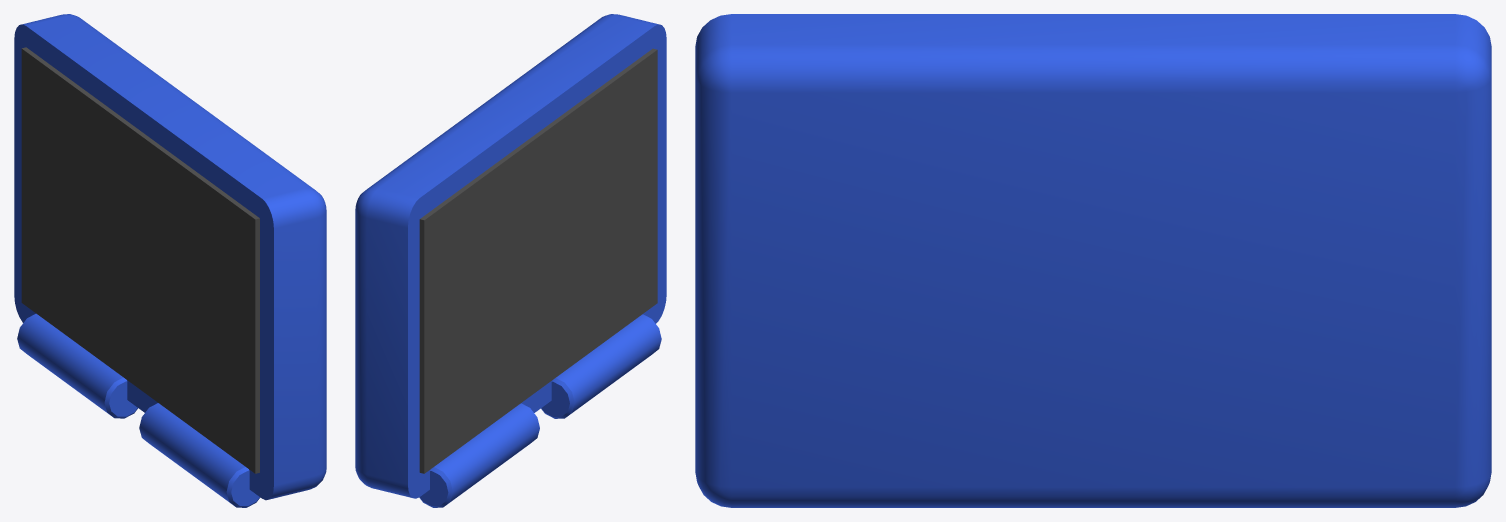
File: blue_box_lid.fbx
3 renders of one model, left to right at view 1: azimuth 30°, elevation 25°; view 2: azimuth 150°, elevation 25°; view 3: azimuth 270°, elevation 25°, orthographic. The views are drawn at different scales.
Parts seen in each view (by area): view 1: Cube, lid, Cylinder_6, Cylinder_5; view 2: Cube, lid, Cylinder_5, Cylinder_6; view 3: lid.
Part boxes in pixels (left/top/right/bottom): Cube: left=21, top=47, right=259, bottom=473; lid: left=14, top=14, right=326, bottom=500; Cylinder_6: left=17, top=313, right=137, bottom=418; Cylinder_5: left=139, top=403, right=260, bottom=507; Cube: left=419, top=48, right=657, bottom=473; lid: left=355, top=14, right=666, bottom=498; Cylinder_5: left=541, top=314, right=661, bottom=418; Cylinder_6: left=419, top=403, right=539, bottom=507; lid: left=695, top=14, right=1491, bottom=507.
Size of the model in its own units: 5.62 by 20.74 by 30.55.
